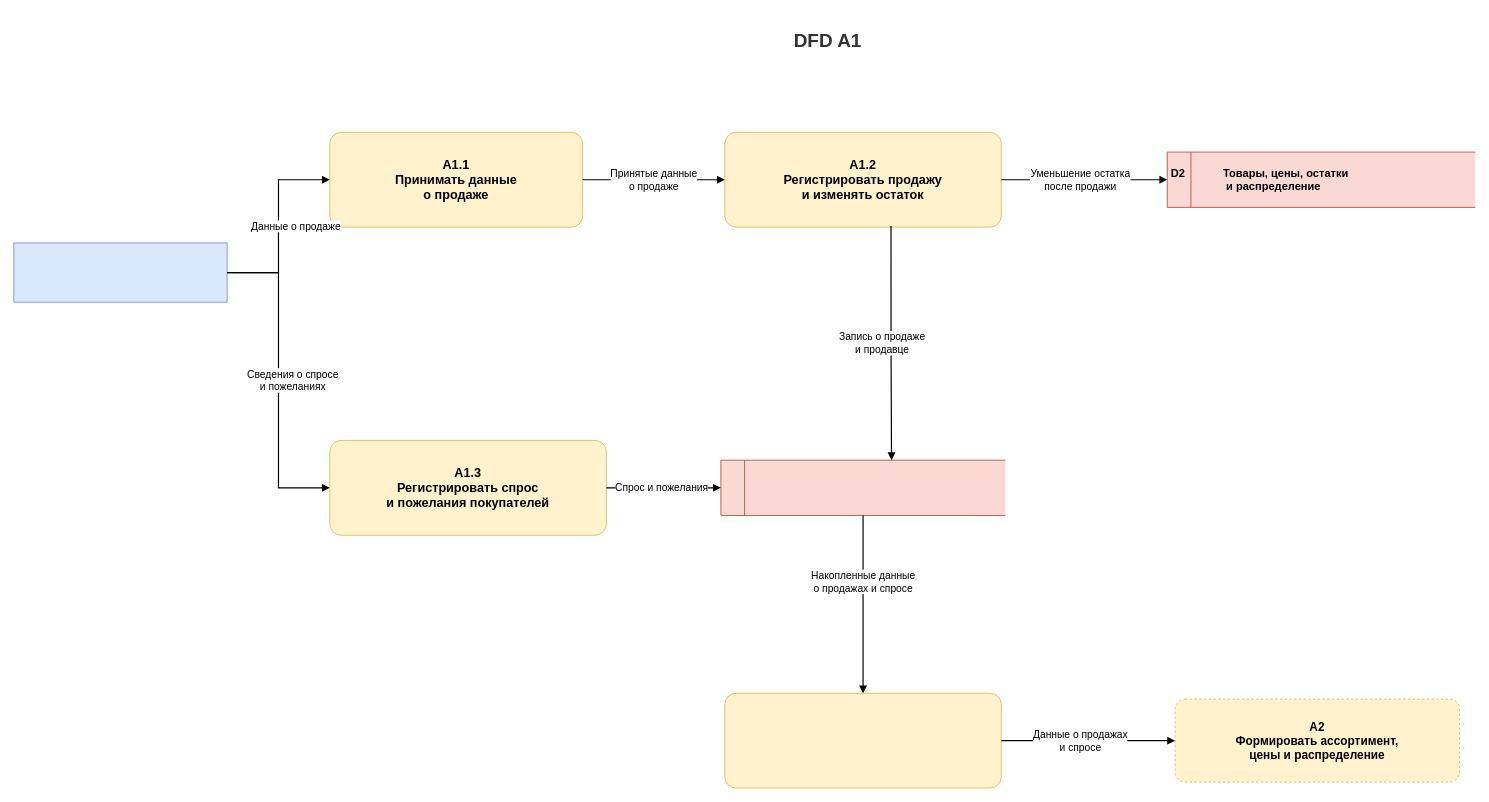
Image size: 1489x802. Some labels were removed from this diagram. Here are the shapes that lost their labels. From the top down, the box of each, then its label:
(13, 242, 227, 302): E3 Продавцы
(720, 459, 1005, 515): D1 Продажи и спрос
(724, 692, 1001, 788): A1.4 Подготавливать данные о продажах и спросе
